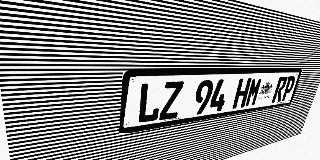4: (208, 79, 230, 113)
9: (192, 80, 215, 115)
H: (232, 78, 252, 109)
L: (136, 82, 163, 124)
M: (244, 77, 263, 107)
P: (280, 76, 297, 101)
R: (271, 76, 288, 103)
Z: (159, 81, 184, 120)
